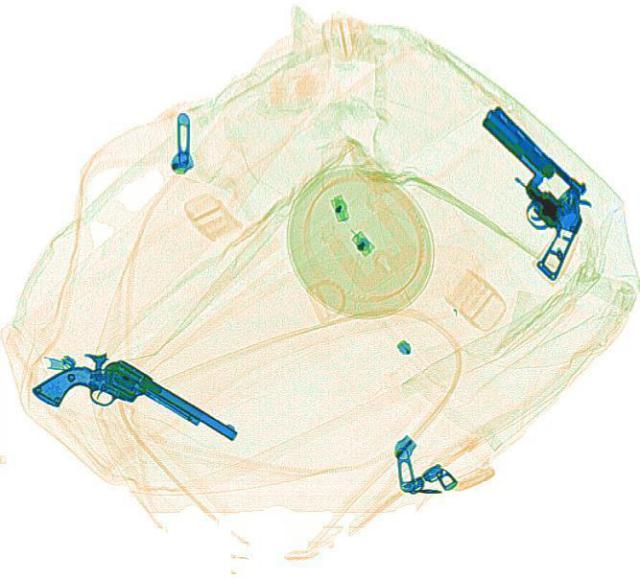Gun: (423, 100, 629, 279), (27, 333, 240, 490)
